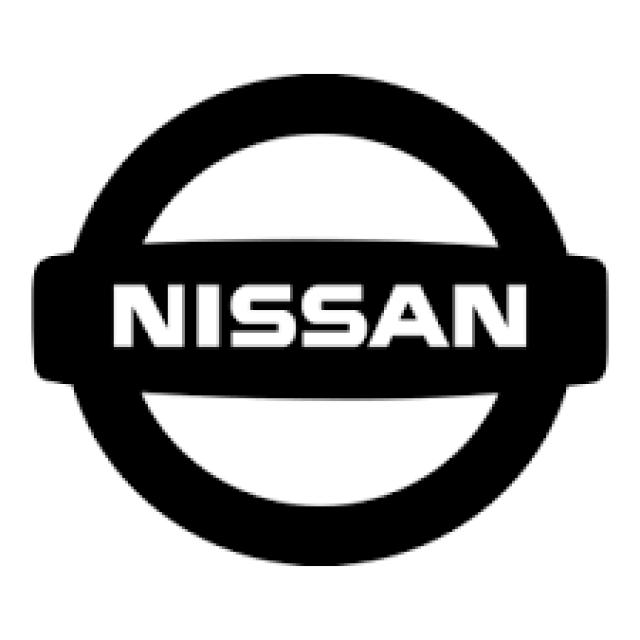nissan: (26, 61, 615, 573)
